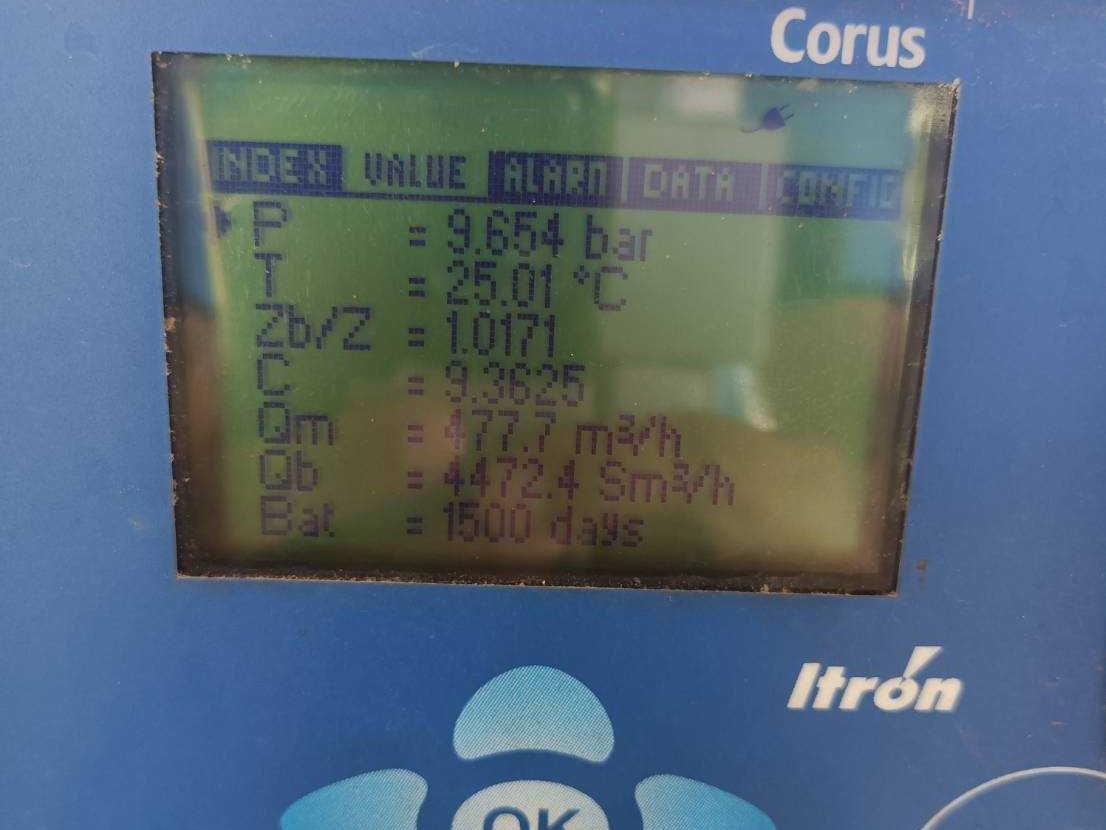digital_screen: (141, 53, 958, 596)
